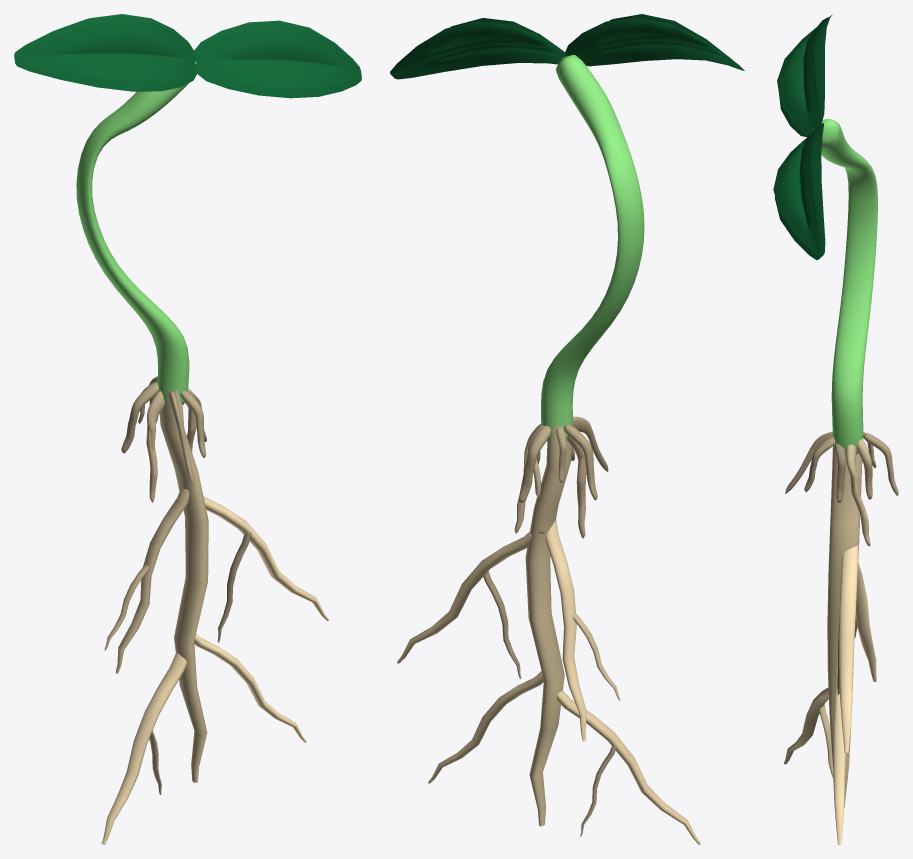
File: Seedling_V4.glb
The picture shows the model from 3 angles, left to right: view 1: azimuth 30°, elevation 25°; view 2: azimuth 150°, elevation 25°; view 3: azimuth 270°, elevation 25°; orthographic projection. The views are drawn at different scales.
Parts seen in each view (by area): view 1: Plane.004, Cylinder.002, Cylinder.003, Cylinder.009, Cylinder.005, Cylinder.004, Cylinder.006, Cube.009, Cube.007, Cylinder.007; view 2: Plane.004, Cylinder.002, Cylinder.003, Cylinder.005, Cylinder.004, Cylinder.009, Cylinder.006, Cube.006, Cube.009, Cube.007, Cylinder.007; view 3: Cylinder.002, Plane.004, Cylinder.003, Cylinder.004, Cylinder.006, Cylinder.005, Cube.008, Cylinder.009, Cube.006, Cube.004, Cube.001, Cube.002 (+2 smaller).
Part boxes in pixels (box(x1,y1,x2,y2)): Plane.004: box(14, 14, 361, 98); Cylinder.002: box(76, 61, 196, 404); Cylinder.003: box(157, 382, 208, 782); Cylinder.009: box(101, 652, 186, 844); Cylinder.005: box(115, 488, 189, 673); Cylinder.004: box(178, 485, 329, 620); Cylinder.006: box(194, 633, 306, 742); Cube.009: box(146, 390, 164, 502); Cube.007: box(121, 383, 159, 453); Cylinder.007: box(217, 532, 251, 642); Plane.004: box(390, 14, 744, 79); Cylinder.002: box(541, 54, 644, 441); Cylinder.003: box(525, 425, 571, 826); Cylinder.005: box(545, 518, 586, 741); Cylinder.004: box(397, 530, 545, 663); Cylinder.009: box(556, 690, 700, 844); Cylinder.006: box(428, 671, 543, 783); Cube.006: box(518, 425, 551, 503); Cube.009: box(567, 435, 586, 538); Cube.007: box(564, 424, 597, 500); Cylinder.007: box(483, 571, 521, 678); Cylinder.002: box(813, 119, 877, 454); Plane.004: box(773, 14, 832, 259); Cylinder.003: box(827, 445, 862, 808); Cylinder.004: box(839, 545, 858, 753); Cylinder.006: box(833, 669, 845, 844); Cylinder.005: box(855, 563, 876, 681); Cube.008: box(845, 444, 870, 546); Cylinder.009: box(784, 687, 828, 764); Cube.006: box(863, 433, 898, 495); Cube.004: box(856, 439, 872, 499); Cube.001: box(785, 432, 832, 493); Cube.002: box(835, 442, 845, 502).
Size of the model in its own units: 2.28 by 5.12 by 0.7855.
